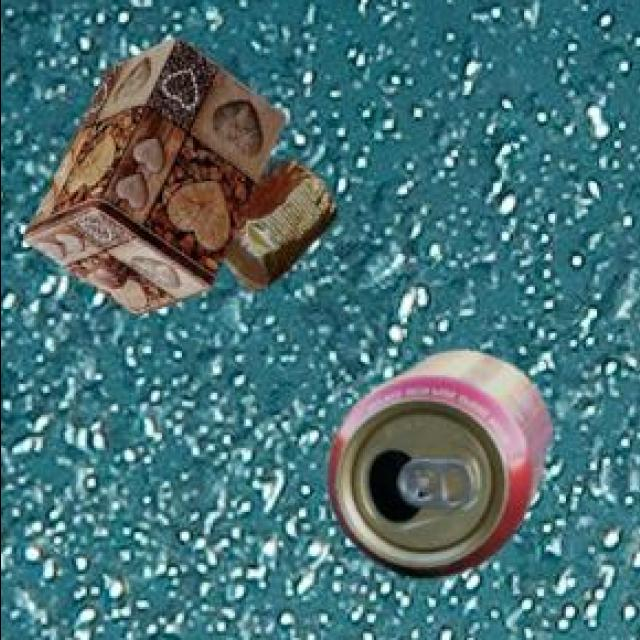logam: (28, 43, 288, 317), (330, 354, 555, 582), (226, 164, 339, 292)
